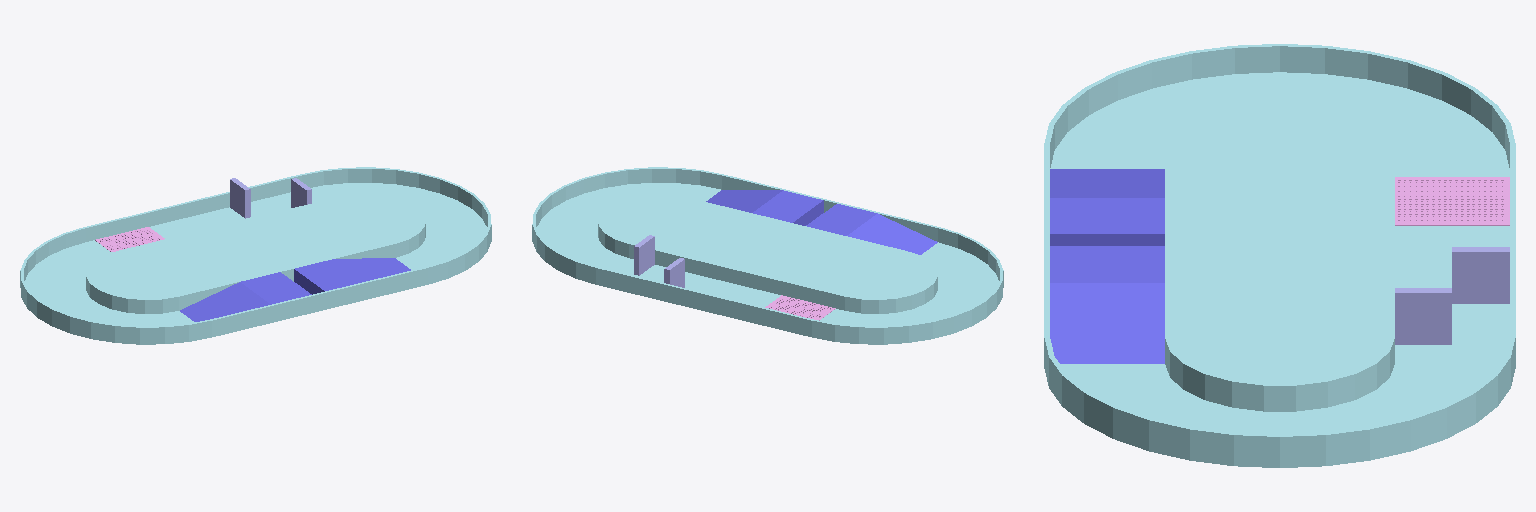
The robot description file, URDF, robot "new_arena":
<?xml version="1.0" encoding="utf-8"?>
<!-- This URDF was automatically created by SolidWorks to URDF Exporter! Originally created by [author] ([email redacted]) 
     Commit Version: 1.6.0-4-g7f85cfe  Build Version: 1.6.7995.38578
     For more information, please see http://wiki.ros.org/sw_urdf_exporter -->
<robot
  name="new_arena">
  <link
    name="arena">
    <inertial>
      <origin
        xyz="1.80521197365816E-16 0.251860663172305 -4.7103827393181E-16"
        rpy="0 0 0" />
      <mass
        value="36196.5475825679" />
      <inertia
        ixx="111361.282109728"
        ixy="2.43960805775586E-12"
        ixz="5.68961615328297E-11"
        iyy="621439.168724381"
        iyz="7.09664604464703E-13"
        izz="512546.576764148" />
    </inertial>
    <visual>
      <origin
        xyz="0 0 0"
        rpy="0 0 0" />
      <geometry>
        <mesh
          filename="package://new_arena/meshes/arena.STL" />
      </geometry>
      <material
        name="">
        <color
          rgba="0.756862745098039 0.964705882352941 1 1" />
      </material>
    </visual>
    <collision>
      <origin
        xyz="0 0 0"
        rpy="0 0 0" />
      <geometry>
        <mesh
          filename="package://new_arena/meshes/arena.STL" />
      </geometry>
    </collision>
  </link>
  <link
    name="slope">
    <inertial>
      <origin
        xyz="-1.72294044859281E-15 -0.0624999999999999 0"
        rpy="0 0 0" />
      <mass
        value="5300" />
      <inertia
        ixx="1871.13020833333"
        ixy="-5.16947595841089E-13"
        ixz="1.14597522935719E-12"
        iyy="20025.5208333333"
        iyz="2.63677968348475E-14"
        izz="18363.3177083333" />
    </inertial>
    <visual>
      <origin
        xyz="0 0 0"
        rpy="0 0 0" />
      <geometry>
        <mesh
          filename="package://new_arena/meshes/slope.STL" />
      </geometry>
      <material
        name="">
        <color
          rgba="0.501960784313725 0.501960784313725 1 1" />
      </material>
    </visual>
    <collision>
      <origin
        xyz="0 0 0"
        rpy="0 0 0" />
      <geometry>
        <mesh
          filename="package://new_arena/meshes/slope.STL" />
      </geometry>
    </collision>
  </link>
  <joint
    name="slope_joint"
    type="fixed">
    <origin
      xyz="0 -3 0.375"
      rpy="1.5708 0 0" />
    <parent
      link="arena" />
    <child
      link="slope" />
    <axis
      xyz="0 0 0" />
  </joint>
  <link
    name="rubble">
    <inertial>
      <origin
        xyz="-1.00575680043092 0.00661190412065712 0.00359709177349599"
        rpy="0 0 0" />
      <mass
        value="46.4124999999998" />
      <inertia
        ixx="15.2630731070815"
        ixy="0.00197400686776215"
        ixz="0.00555265149334863"
        iyy="30.3300250056683"
        iyz="-0.00170076790075579"
        izz="15.0694080090994" />
    </inertial>
    <visual>
      <origin
        xyz="0 0 0"
        rpy="0 0 0" />
      <geometry>
        <mesh
          filename="package://new_arena/meshes/rubble.STL" />
      </geometry>
      <material
        name="">
        <color
          rgba="1 0.752941176470588 1 1" />
      </material>
    </visual>
    <collision>
      <origin
        xyz="0 0 0"
        rpy="0 0 0" />
      <geometry>
        <mesh
          filename="package://new_arena/meshes/rubble.STL" />
      </geometry>
    </collision>
  </link>
  <joint
    name="rubble_joint"
    type="fixed">
    <origin
      xyz="-1.6666 3 0.1"
      rpy="1.5708 0 0" />
    <parent
      link="arena" />
    <child
      link="rubble" />
    <axis
      xyz="1 0 0" />
  </joint>
  <link
    name="wall_1">
    <inertial>
      <origin
        xyz="-4.44089209850063E-16 0.5 0.1"
        rpy="0 0 0" />
      <mass
        value="200" />
      <inertia
        ixx="17.3333333333333"
        ixy="-1.49560497243821E-30"
        ixz="-1.5149918356864E-16"
        iyy="17.3333333333333"
        iyz="1.01562711911046E-31"
        izz="33.3333333333333" />
    </inertial>
    <visual>
      <origin
        xyz="0 0 0"
        rpy="0 0 0" />
      <geometry>
        <mesh
          filename="package://new_arena/meshes/wall_1.STL" />
      </geometry>
      <material
        name="">
        <color
          rgba="0.752941176470588 0.752941176470588 1 1" />
      </material>
    </visual>
    <collision>
      <origin
        xyz="0 0 0"
        rpy="0 0 0" />
      <geometry>
        <mesh
          filename="package://new_arena/meshes/wall_1.STL" />
      </geometry>
    </collision>
  </link>
  <joint
    name="wall_1_joint"
    type="fixed">
    <origin
      xyz="1.3334 3.5 0.1"
      rpy="1.5708 0 1.5708" />
    <parent
      link="arena" />
    <child
      link="wall_1" />
    <axis
      xyz="0 0 1" />
  </joint>
  <link
    name="wall_2">
    <inertial>
      <origin
        xyz="0 -0.5 0.1"
        rpy="0 0 0" />
      <mass
        value="200" />
      <inertia
        ixx="17.3333333333334"
        ixy="0"
        ixz="-2.31296463463575E-17"
        iyy="17.3333333333333"
        iyz="4.58912994561021E-32"
        izz="33.3333333333334" />
    </inertial>
    <visual>
      <origin
        xyz="0 0 0"
        rpy="0 0 0" />
      <geometry>
        <mesh
          filename="package://new_arena/meshes/wall_2.STL" />
      </geometry>
      <material
        name="">
        <color
          rgba="0.752941176470588 0.752941176470588 1 1" />
      </material>
    </visual>
    <collision>
      <origin
        xyz="0 0 0"
        rpy="0 0 0" />
      <geometry>
        <mesh
          filename="package://new_arena/meshes/wall_2.STL" />
      </geometry>
    </collision>
  </link>
  <joint
    name="wall_2_joint"
    type="fixed">
    <origin
      xyz="3.0334 2.5 0.1"
      rpy="-1.5708 0 -1.5708" />
    <parent
      link="arena" />
    <child
      link="wall_2" />
    <axis
      xyz="0 0 1" />
  </joint>
</robot>

--- Render facts (derived) ---
Views: 3 orthographic renders of the robot side by side, from view 1: azimuth 30°, elevation 25°; view 2: azimuth 150°, elevation 25°; view 3: azimuth 270°, elevation 25°.
Robot: new_arena — 5 links, 4 joints (4 fixed); root link arena; default pose: all joints at 0.
Links seen in each view (by area): view 1: arena, slope, rubble, wall_1; view 2: arena, slope, rubble, wall_2; view 3: arena, slope, rubble, wall_1, wall_2.
Boxes of the visible links, left/top/right/bottom form: arena: left=20, top=167, right=491, bottom=344; slope: left=180, top=258, right=410, bottom=321; rubble: left=95, top=227, right=164, bottom=251; wall_1: left=230, top=178, right=250, bottom=218; arena: left=532, top=167, right=1003, bottom=344; slope: left=706, top=190, right=937, bottom=254; rubble: left=765, top=295, right=835, bottom=320; wall_2: left=634, top=235, right=654, bottom=275; arena: left=1044, top=44, right=1515, bottom=467; slope: left=1050, top=169, right=1164, bottom=363; rubble: left=1395, top=177, right=1509, bottom=225; wall_1: left=1452, top=247, right=1509, bottom=303; wall_2: left=1395, top=288, right=1451, bottom=344.
Size in the robot's own frame: 16.2 by 8.2 by 1.1 metres.
Meshes: 5 distinct files referenced, 5 mesh visuals loaded (5 binary STL).